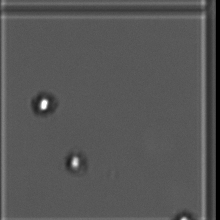Living Cell: (29, 89, 60, 120), (60, 146, 91, 177)
